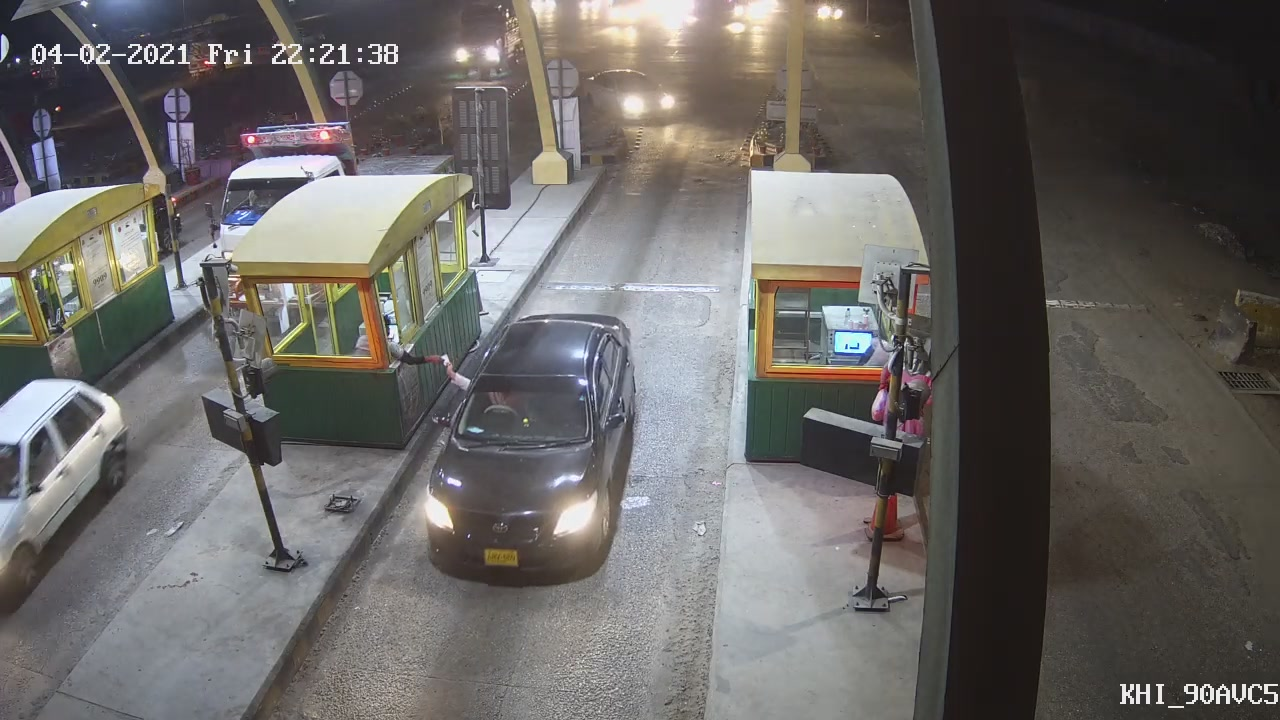F1: (420, 310, 640, 580)
